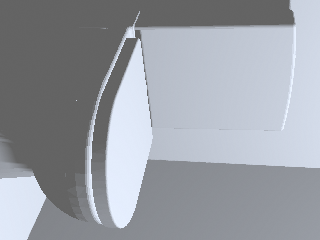lid_1: (92, 38, 151, 226)
